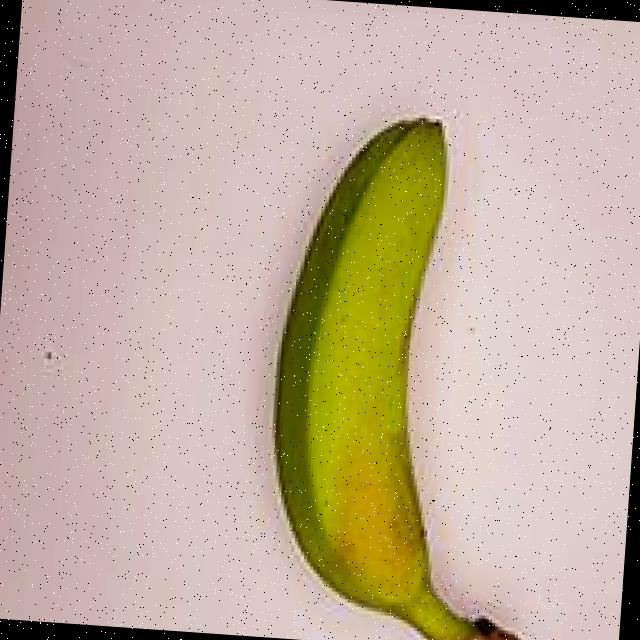Unripe: (187, 79, 599, 640)
